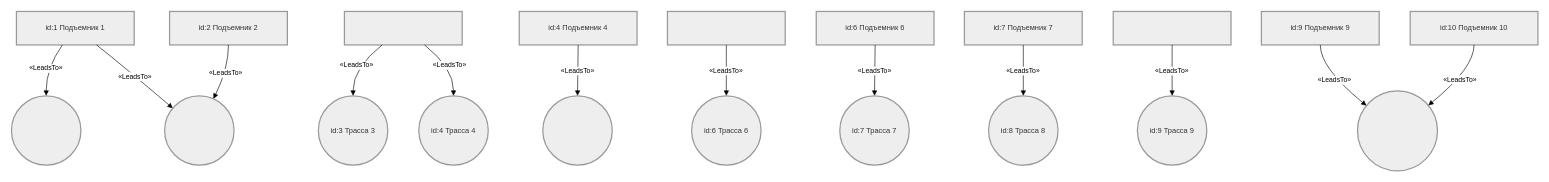
The diagram is 1549 pixels wide and 182 high, and some of its shapes have lost their labels. Here are the shapes that lost their labels. From the top down, the centre of each, then its label:
the point at 403,28: id:3 Подъемник 3
the point at 726,28: id:5 Подъемник 5
the point at 1171,28: id:8 Подъемник 8
the point at 46,130: id:1 Трасса 1
the point at 199,130: id:2 Трасса 2
the point at 577,130: id:5 Трасса 5
the point at 1397,130: id:10 Трасса 10
